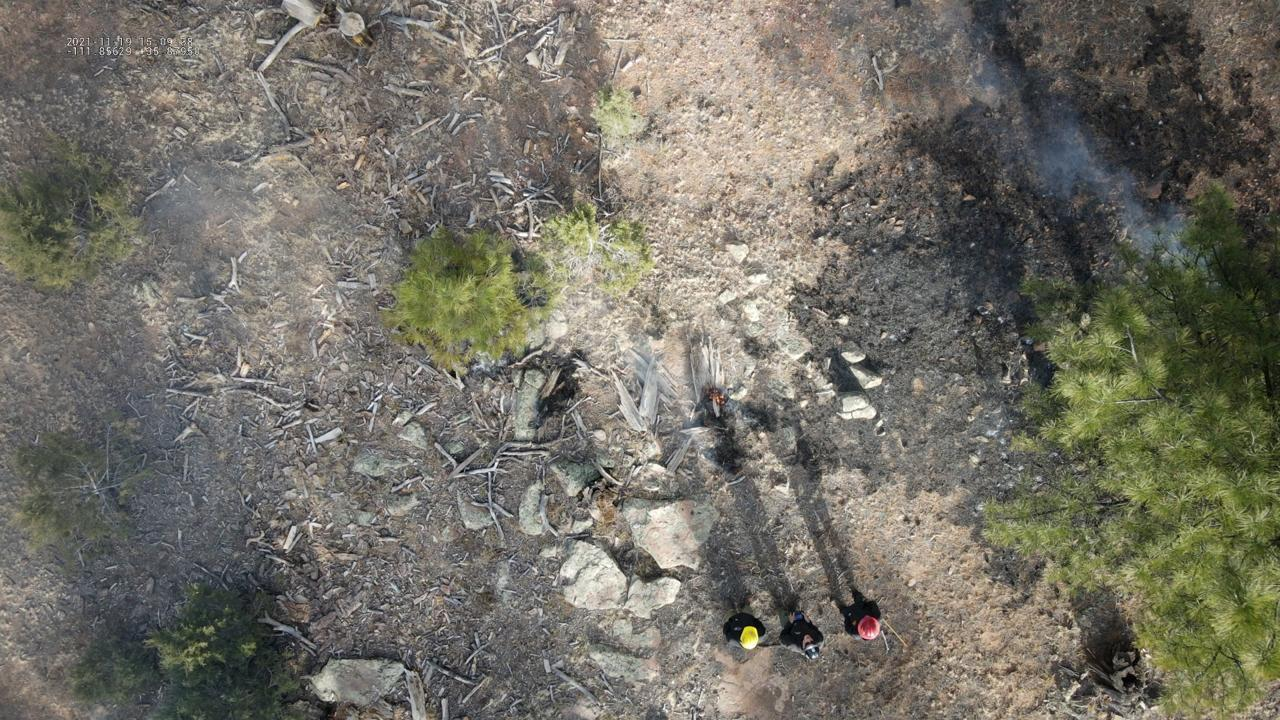fire: (708, 391, 726, 405)
smoke: (1029, 121, 1196, 268)
